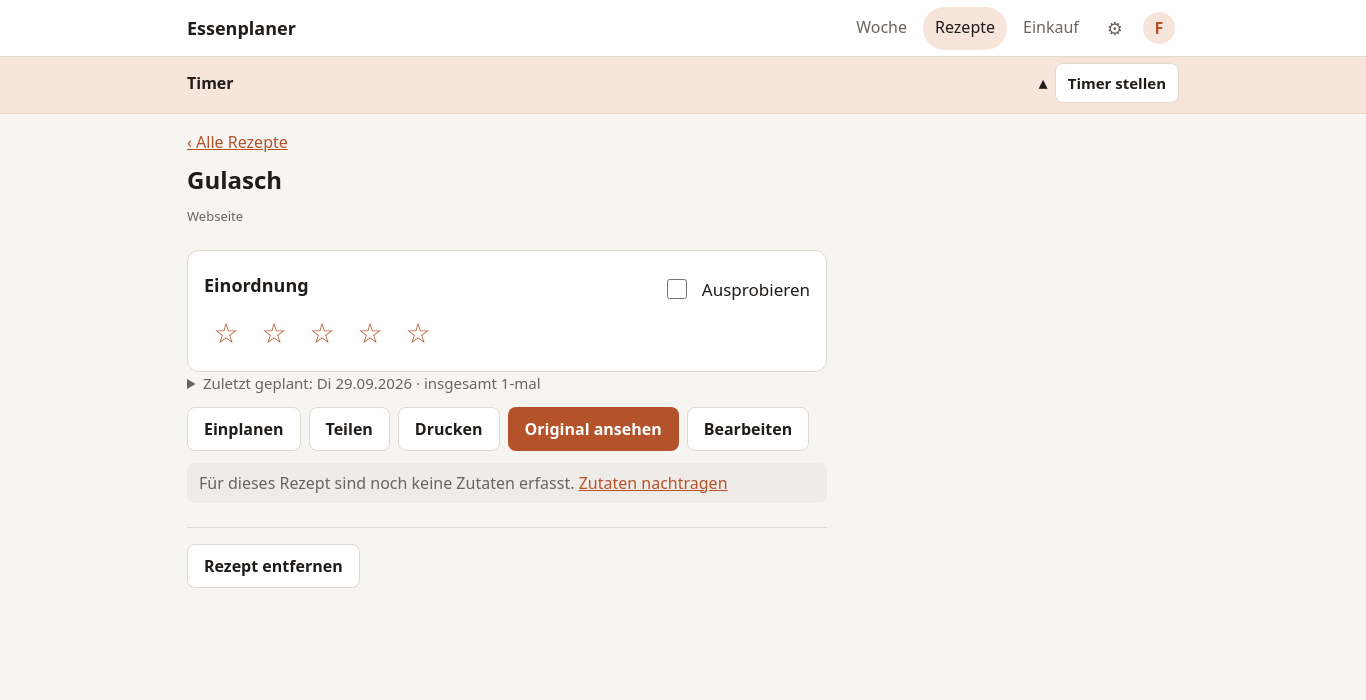
Test: Importiertes Rezept entfernen › entfernt nach Rückfrage; im Plan bleibt es mit Hinweis sichtbar
Click the button "Rezept entfernen". click: (273,566)
box: [187,544,360,588]
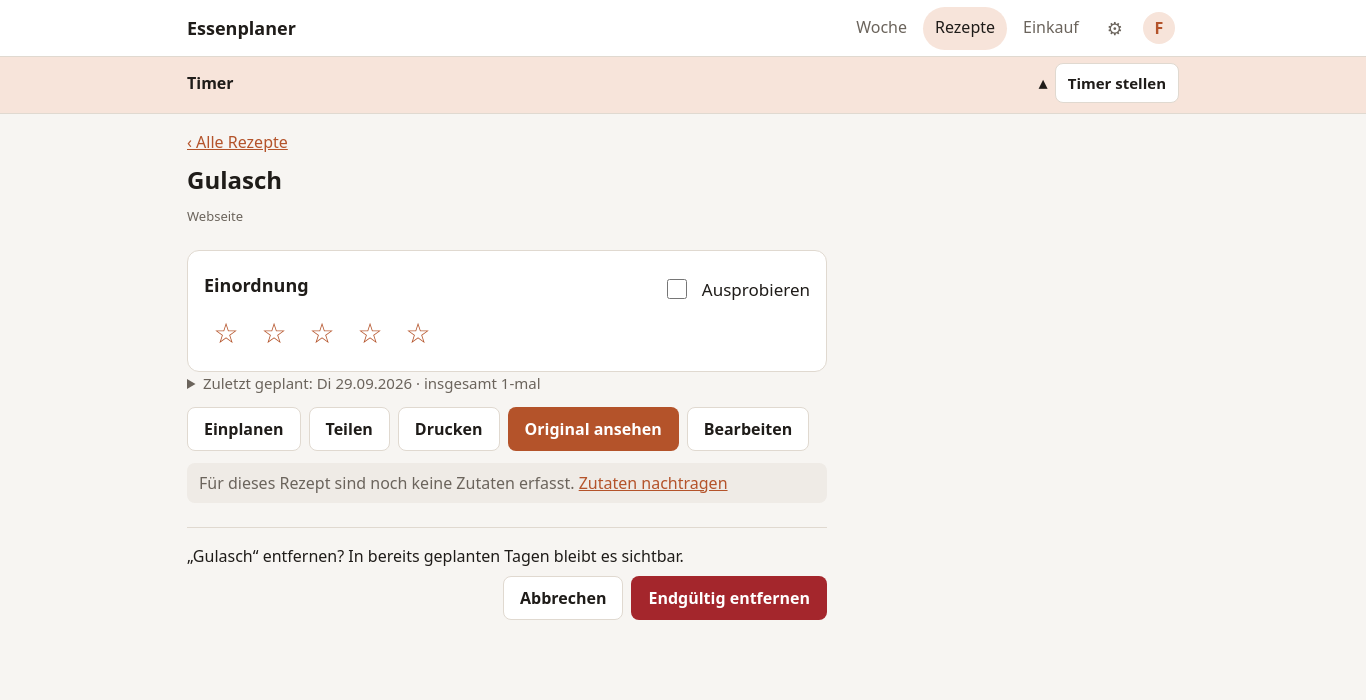
Click the button "Abbrechen". click: (563,598)
box: [503,576,623,620]
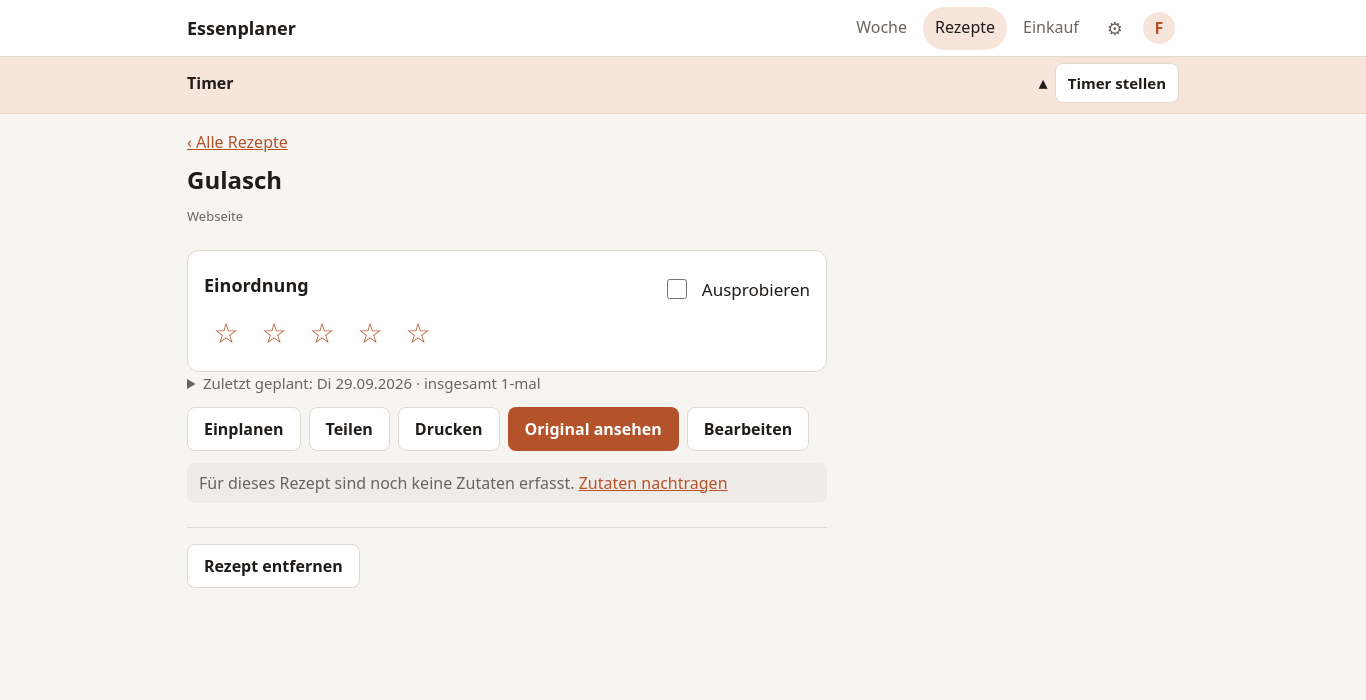
Click the button "Rezept entfernen". click: (273,566)
box: [187,544,360,588]
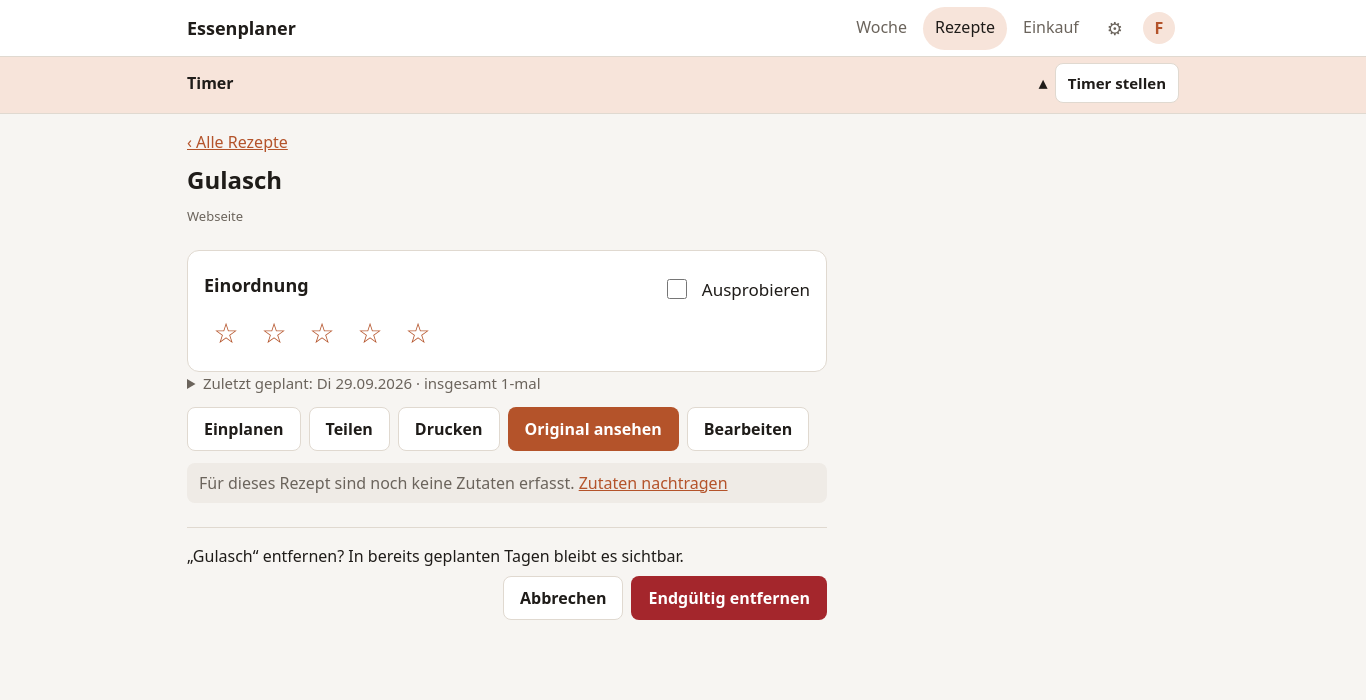
Click the button "Endgültig entfernen". click: (729,598)
box: [632,576,827,620]
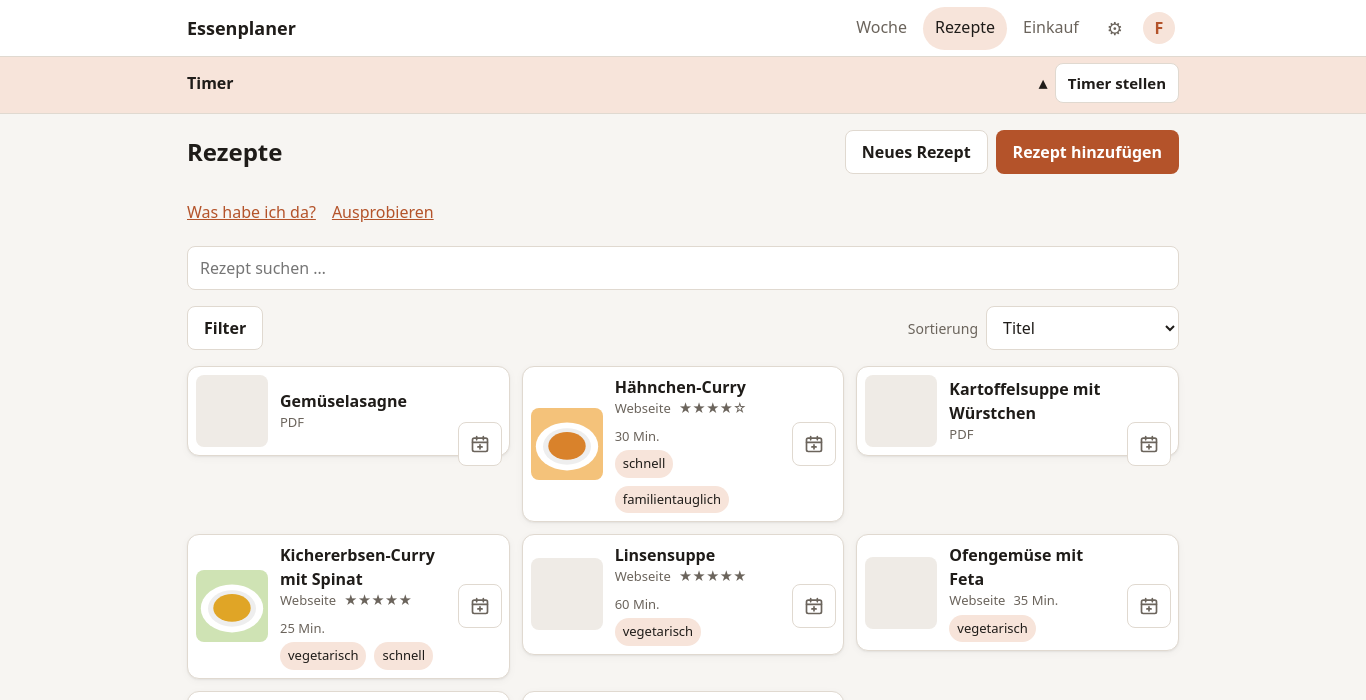
Result: the heading "Rezepte" is shown at [187,138,282,166]
Result: the heading "Gulasch" is gone
Click the link "Woche". click: (882,26)
box: [856,16,907,38]
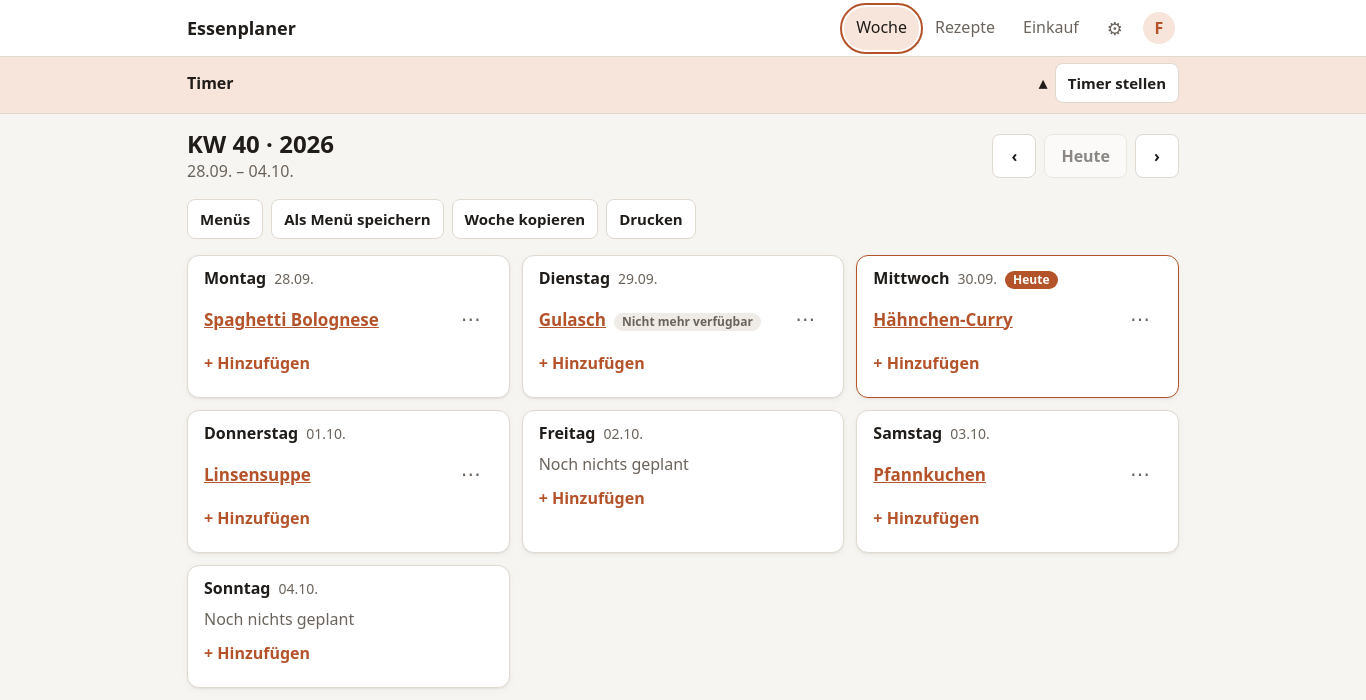
Result: the link "Gulasch" is shown
Result: the text "Nicht mehr verfügbar" is shown at [614,312,761,330]
Click the link "Gulasch". click: (572,319)
box: [539,306,606,332]
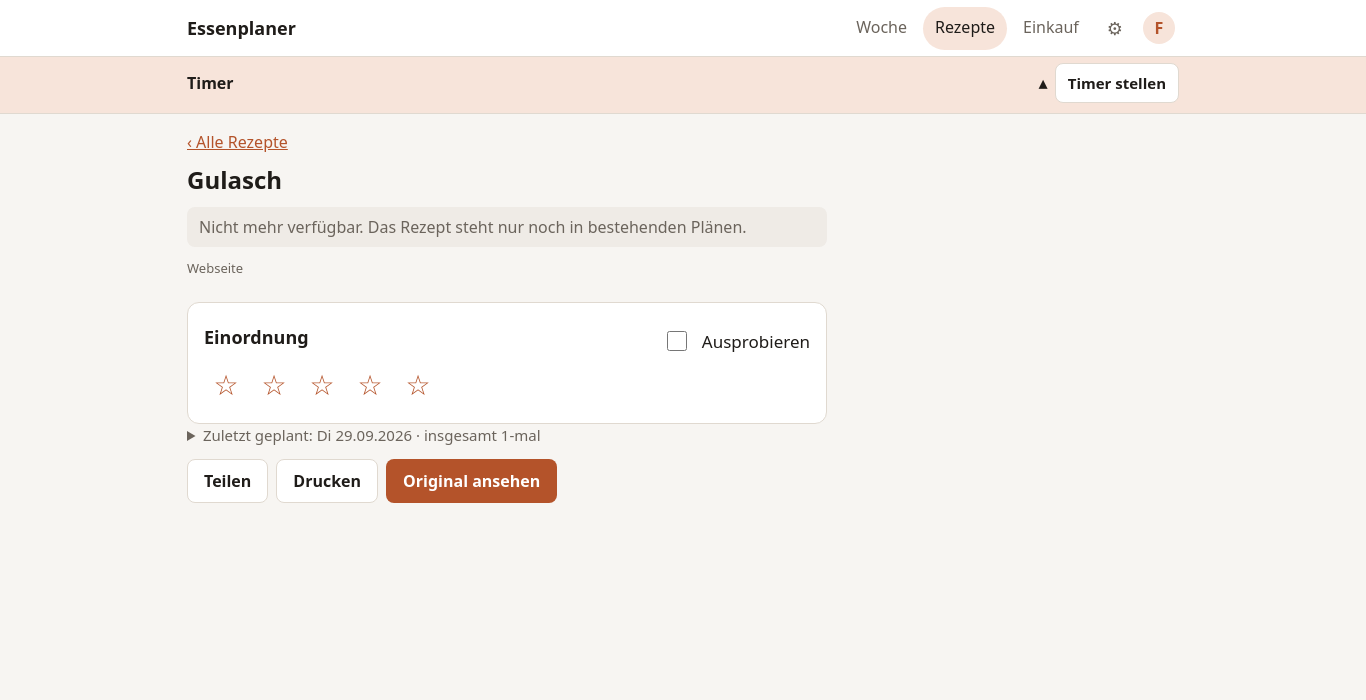
Expected: the button "Rezept entfernen" is not shown
Result: the text "Nicht mehr verfügbar. Das Rezept steht nur noch" is shown at [199,216,747,238]
